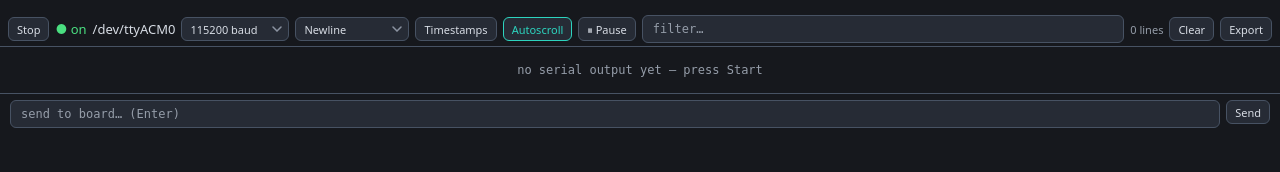
Test: SerialMonitor send box › sends on Enter with the chosen line ending and echoes a tx row
Select "Both NL & CR" in the dropdown named "Line ending" at {"x": 352, "y": 29}, box [296, 17, 410, 41]
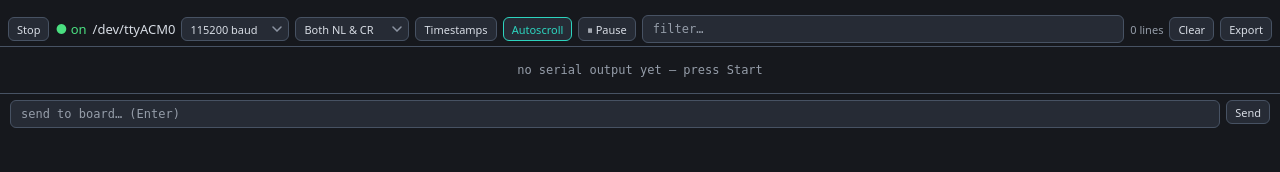
Type "AT" into the field labelled "send to board" at {"x": 615, "y": 114}, box [10, 100, 1220, 128]
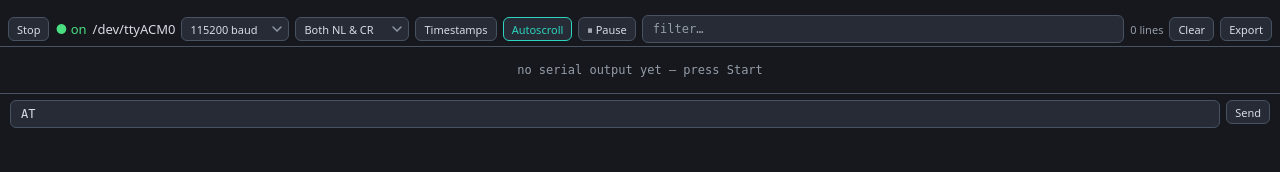
Press Enter in the field named "send to board", box [10, 100, 1220, 128]
Wait 150 ms
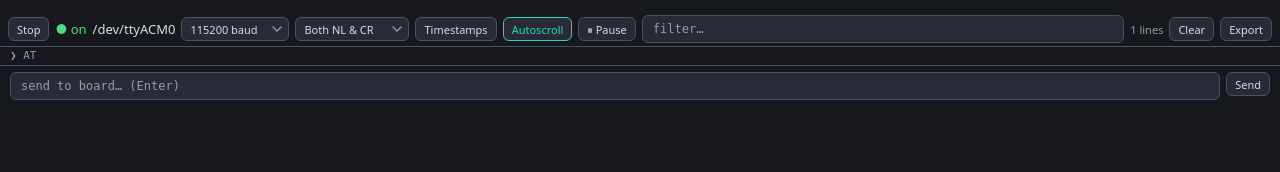
Result: the text with class "serial-row" shows "AT" at [10, 49, 36, 62]
Result: the field labelled "send to board" is empty at [10, 72, 1220, 100]
